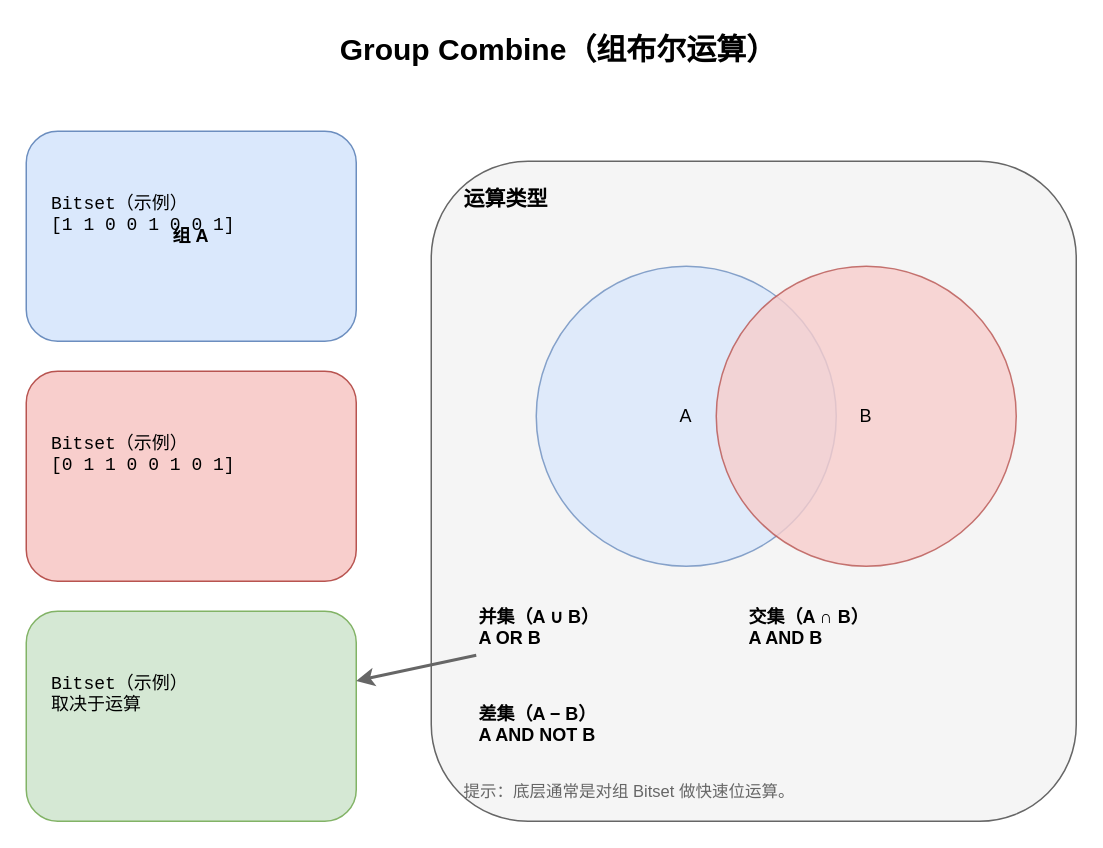
Some shapes in this 1103 by 848 pixel diagram are drawn without their labels. Each missing label, with the box of its shape:
组 B: (25, 370, 356, 581)
结果组: (25, 610, 356, 821)
